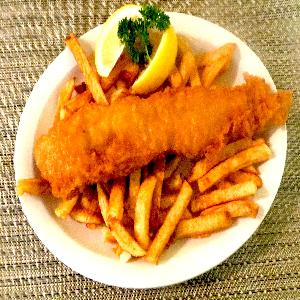fries_350cal: (112, 185, 259, 235)
